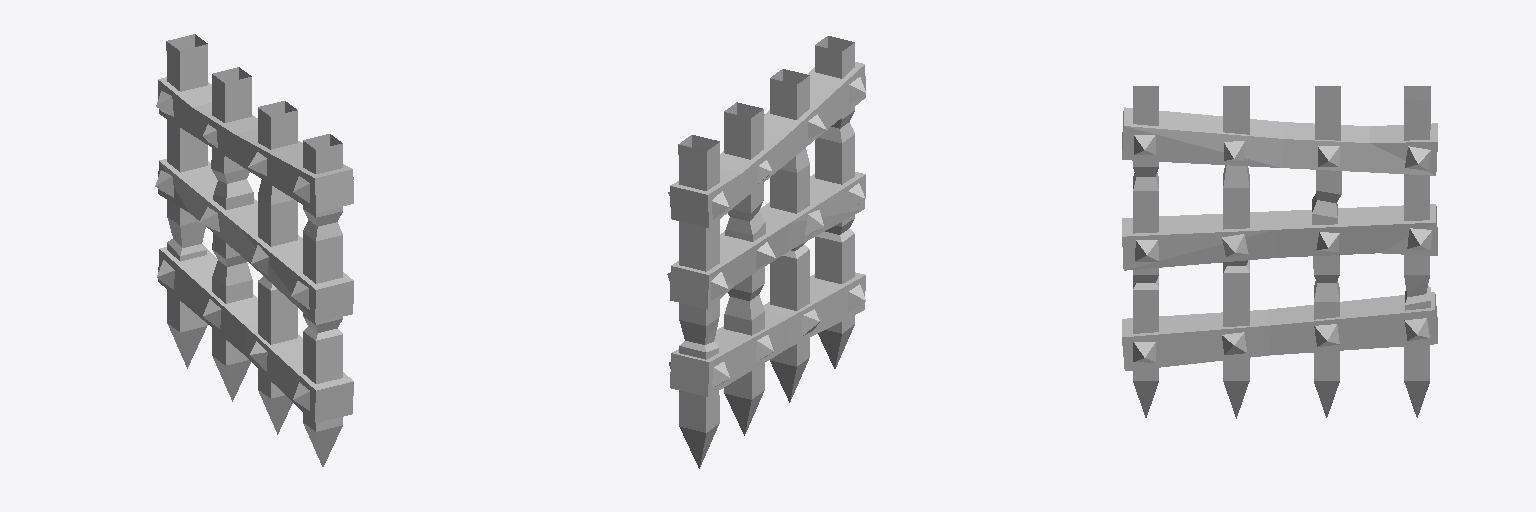
Rendered from gate_short.obj.
3 views of the same model, side by side, from view 1: azimuth 30°, elevation 25°; view 2: azimuth 150°, elevation 25°; view 3: azimuth 270°, elevation 25° (orthographic).
Parts seen in each view (by area): view 1: gate_short; view 2: gate_short; view 3: gate_short.
Part boxes in pixels (x1,y1,x2,y2): gate_short: (155,34,353,466); gate_short: (667,36,865,468); gate_short: (1122,86,1437,418).
Bounding box in the file's own units: 86.31 × 400 × 351.